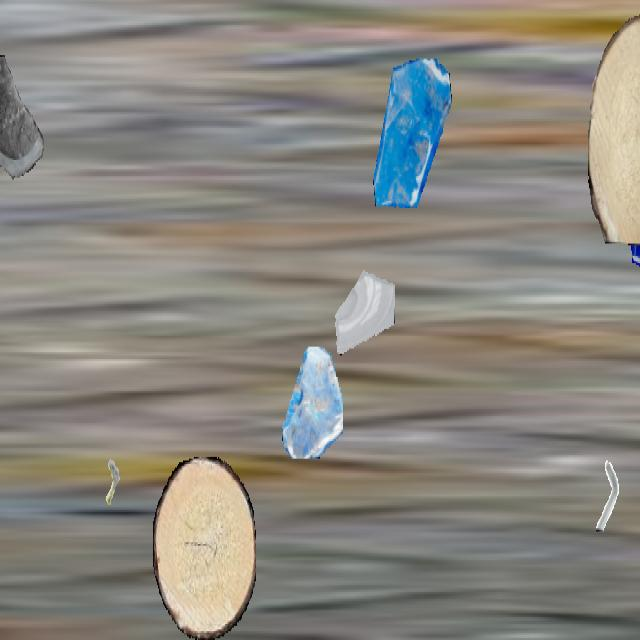glass: (370, 59, 454, 208), (0, 55, 53, 201), (280, 347, 342, 457), (334, 249, 394, 355), (620, 138, 640, 284)
metal: (586, 457, 628, 531), (90, 454, 130, 524)
wood: (153, 457, 255, 638), (588, 14, 640, 246)
